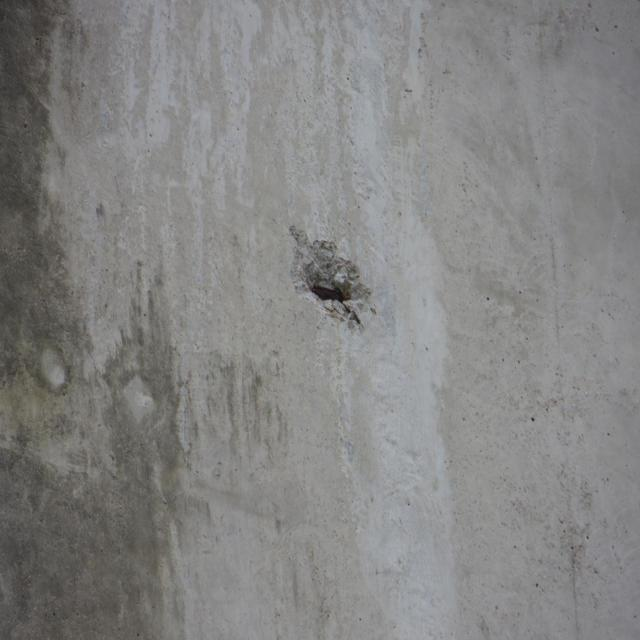concrete spalling: (286, 223, 374, 332)
